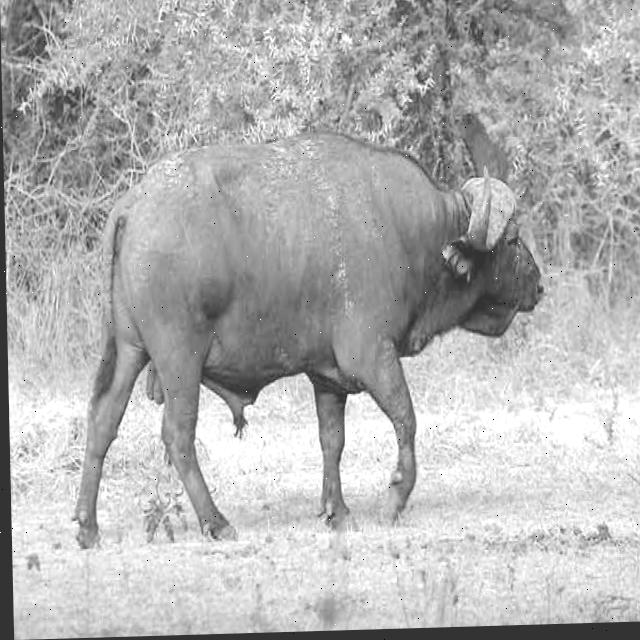Buffalo: (63, 128, 546, 549)
